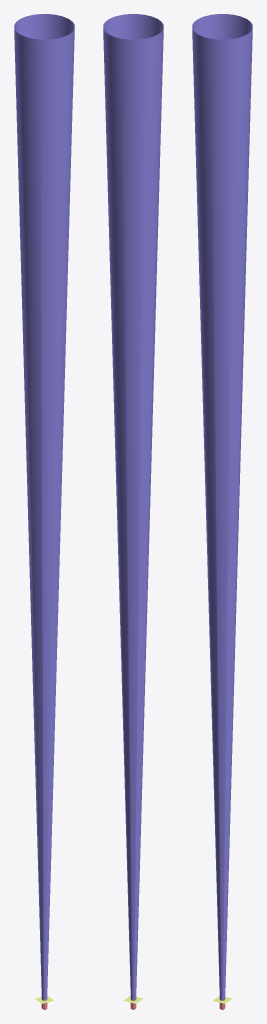
File: Light_Deng2_1X2_on.FBX
3 renders of one model, left to right at view 1: azimuth 30°, elevation 25°; view 2: azimuth 150°, elevation 25°; view 3: azimuth 330°, elevation 25°, orthographic.
Visible parts, largest first — view 1: Box002; view 2: Box002; view 3: Box002.
Boxes of the visible parts, x1,y1,x2,y2 form: Box002: (14, 14, 74, 1009); Box002: (103, 14, 163, 1009); Box002: (192, 14, 252, 1009).
Bounding box in the file's own units: 11.41 × 204 × 11.41.
